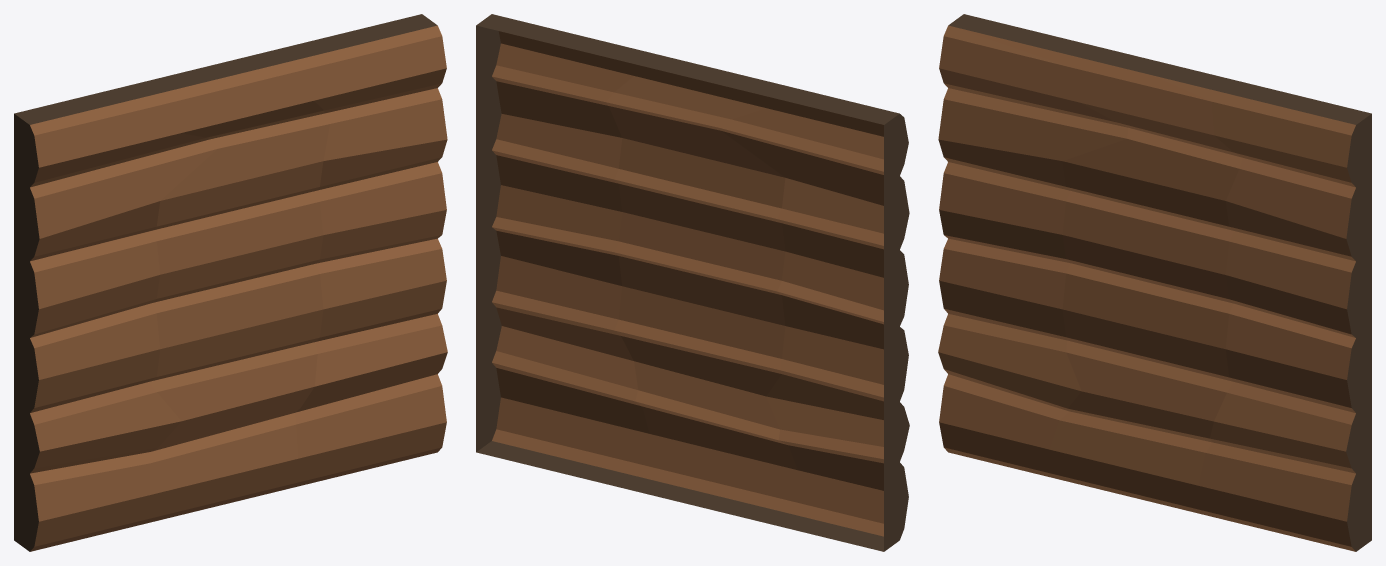
Rendered from wall-wood-horizontal-3x3m.fbx.
3 views of the same model, side by side, from view 1: azimuth 30°, elevation 25°; view 2: azimuth 150°, elevation 25°; view 3: azimuth 330°, elevation 25° (orthographic).
Visible parts, largest first — view 1: wall-wood-horizontal-3x3m; view 2: wall-wood-horizontal-3x3m; view 3: wall-wood-horizontal-3x3m.
Boxes of the visible parts, x1,y1,x2,y2 form: wall-wood-horizontal-3x3m: (14,14,447,551); wall-wood-horizontal-3x3m: (476,14,909,551); wall-wood-horizontal-3x3m: (938,14,1371,551).
Size of the model in its own units: 3 by 3 by 0.328.
